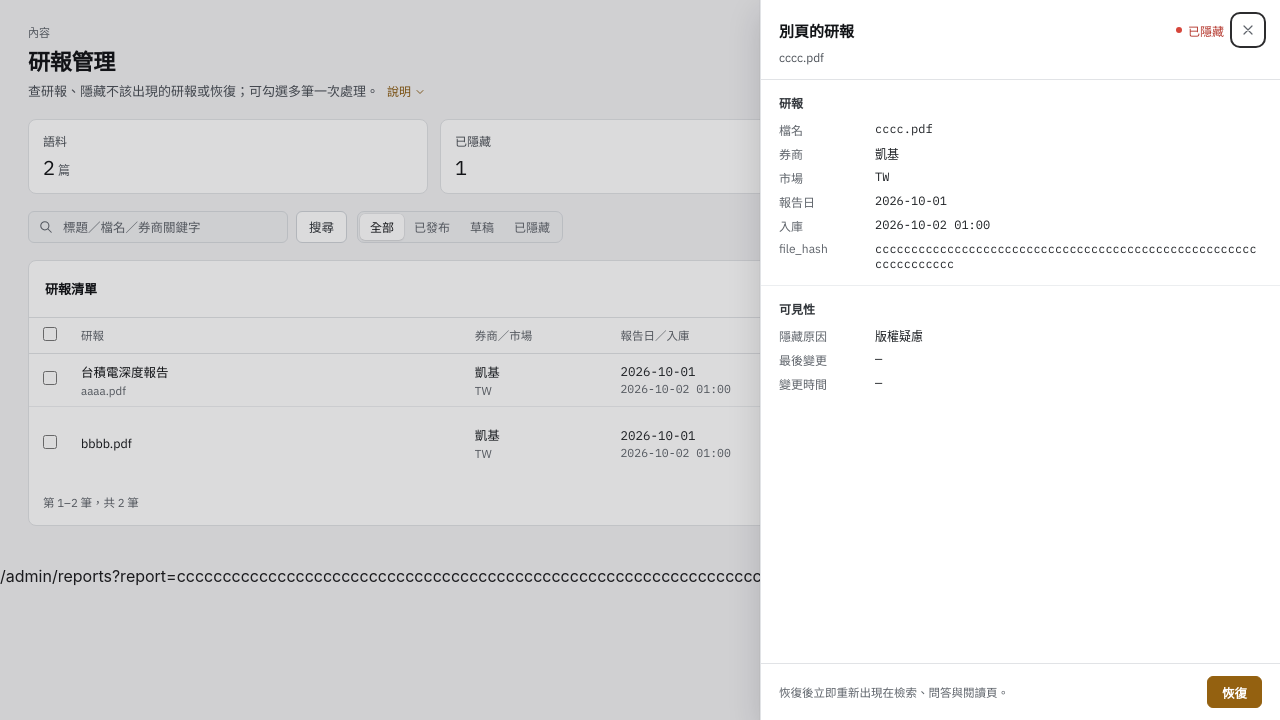
Test: 單筆取來的研報可以直接在抽屜處理：恢復送那一篇的 hash，完成後抽屜關閉
Click the button "恢復".
click(1234, 692)  # box [1207,676,1262,708]
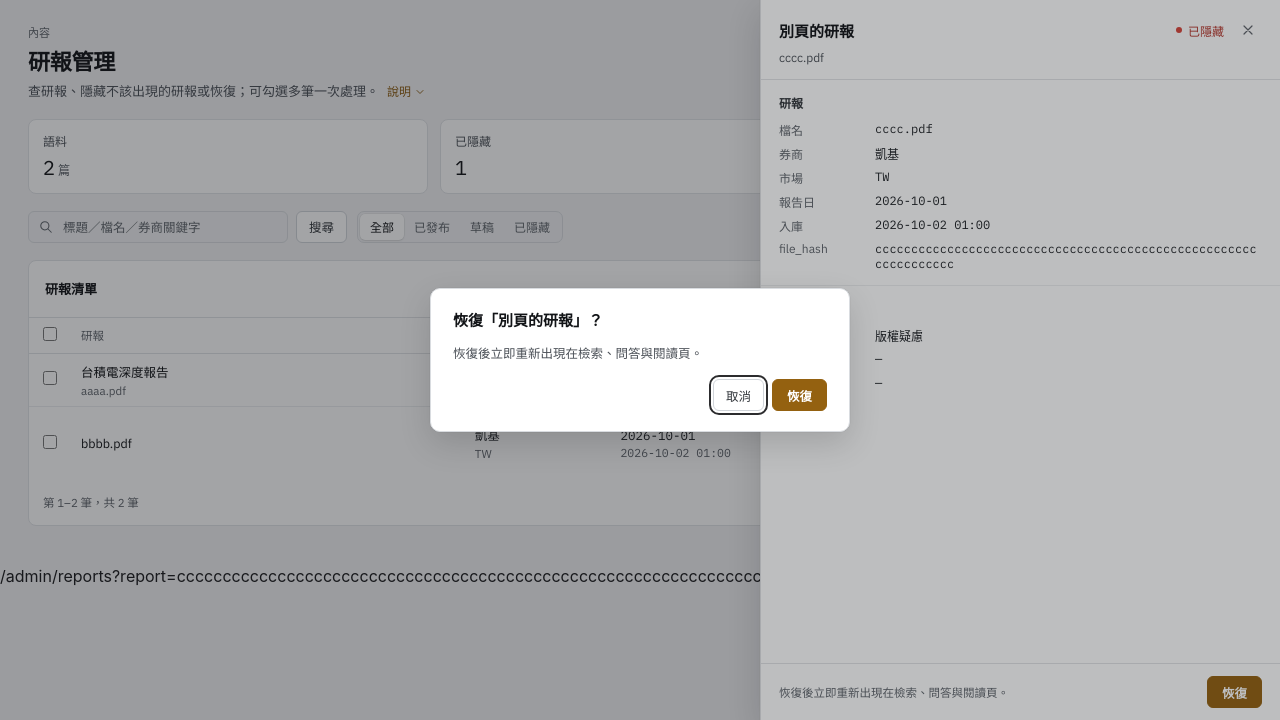
Click the button "恢復".
click(800, 395)  # box [772,379,827,411]
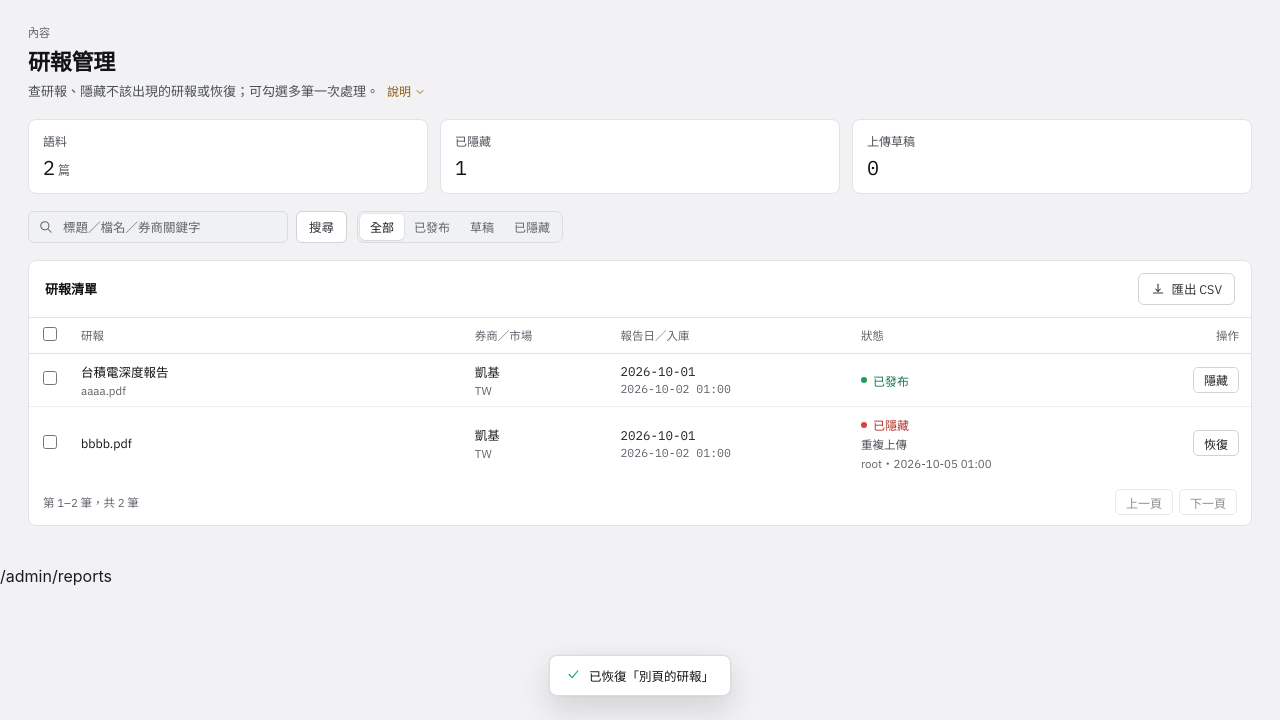
Now the text "已恢復「別頁的研報」" is shown, box [549,655,731,696]
Now the dialog is gone
Now the text with test id "where" reads "/admin/reports", box [0,566,112,586]
